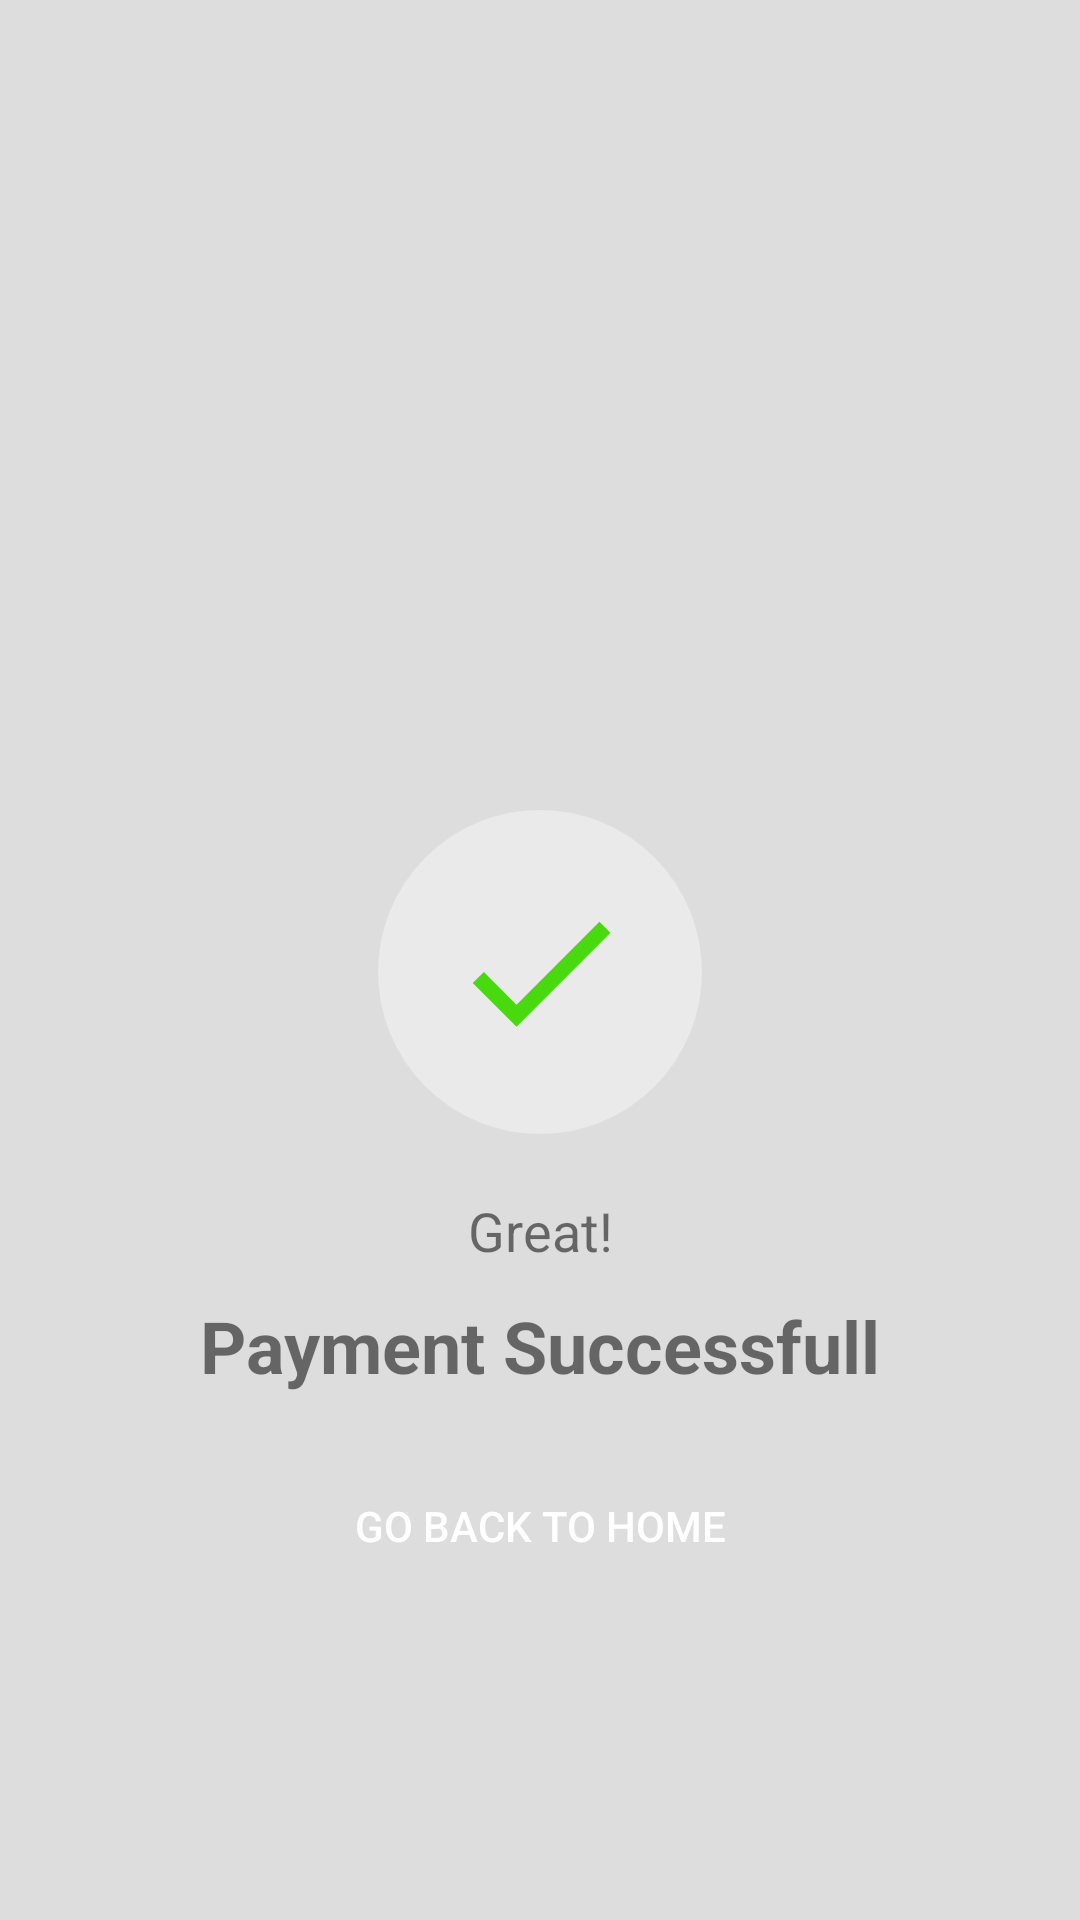

Locate icon controls on the screen. Image size 1080px×1920px, boxes as (x1, y1, x2, y2).
check: (378, 810, 702, 1134)
